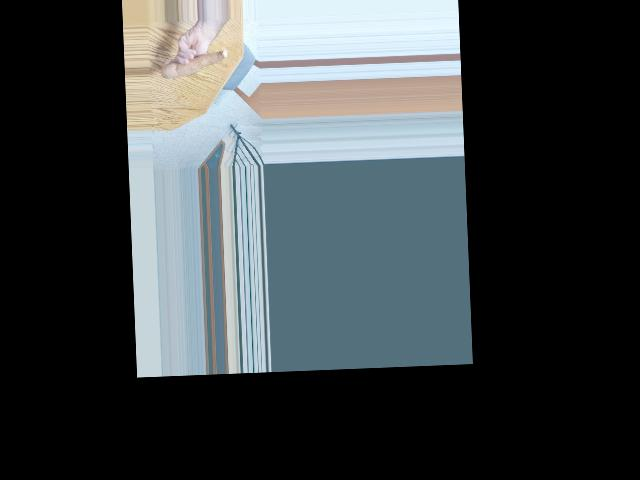sweet_potato: (161, 49, 229, 81)
